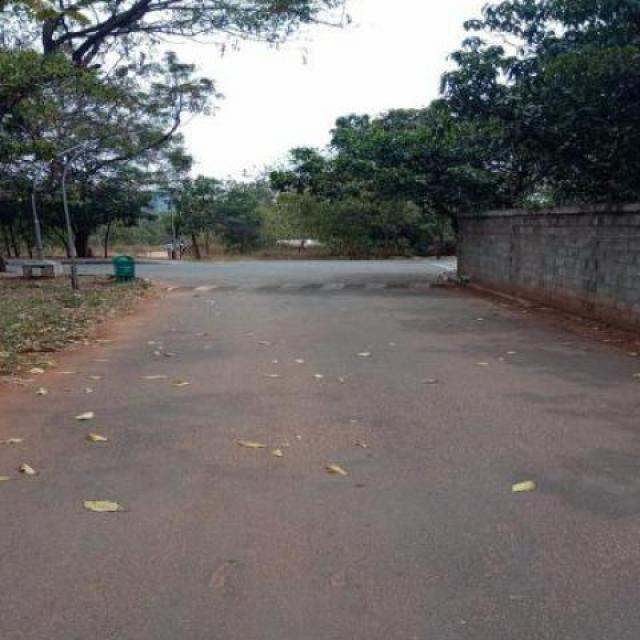Speed Bump: (137, 278, 468, 296)
